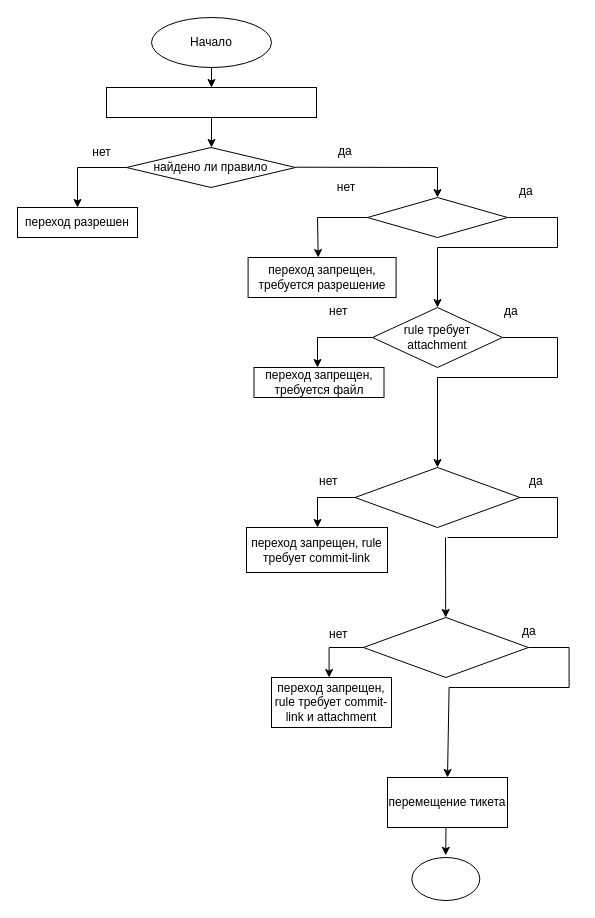
Image size: 595x918. Some labels were removed from this diagram. The centre of each missing label's shape, as x and y in pixels:
"AddTransitionRuleAsync(rule)" goes at point 211,102.
"rule требует commit-link" goes at point 437,497.
"rule требует commit-link и attachment" goes at point 445,647.
"rule==isAllowed" goes at point 437,217.
"конец" goes at point 445,878.
